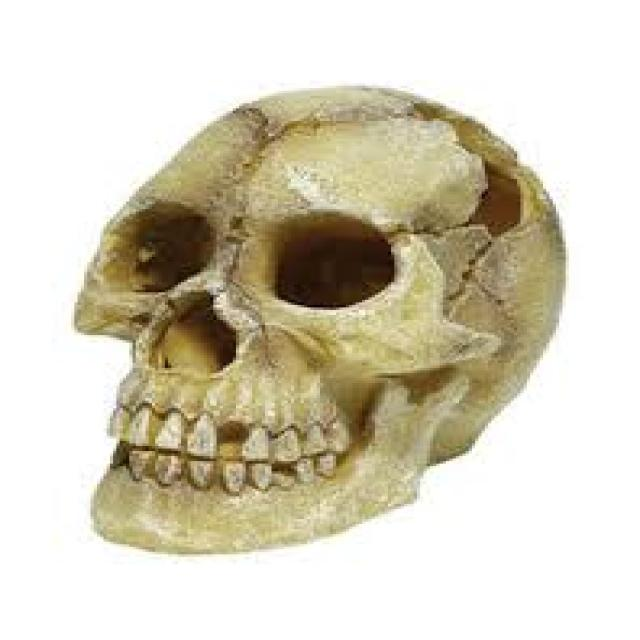skull: (57, 70, 580, 574)
